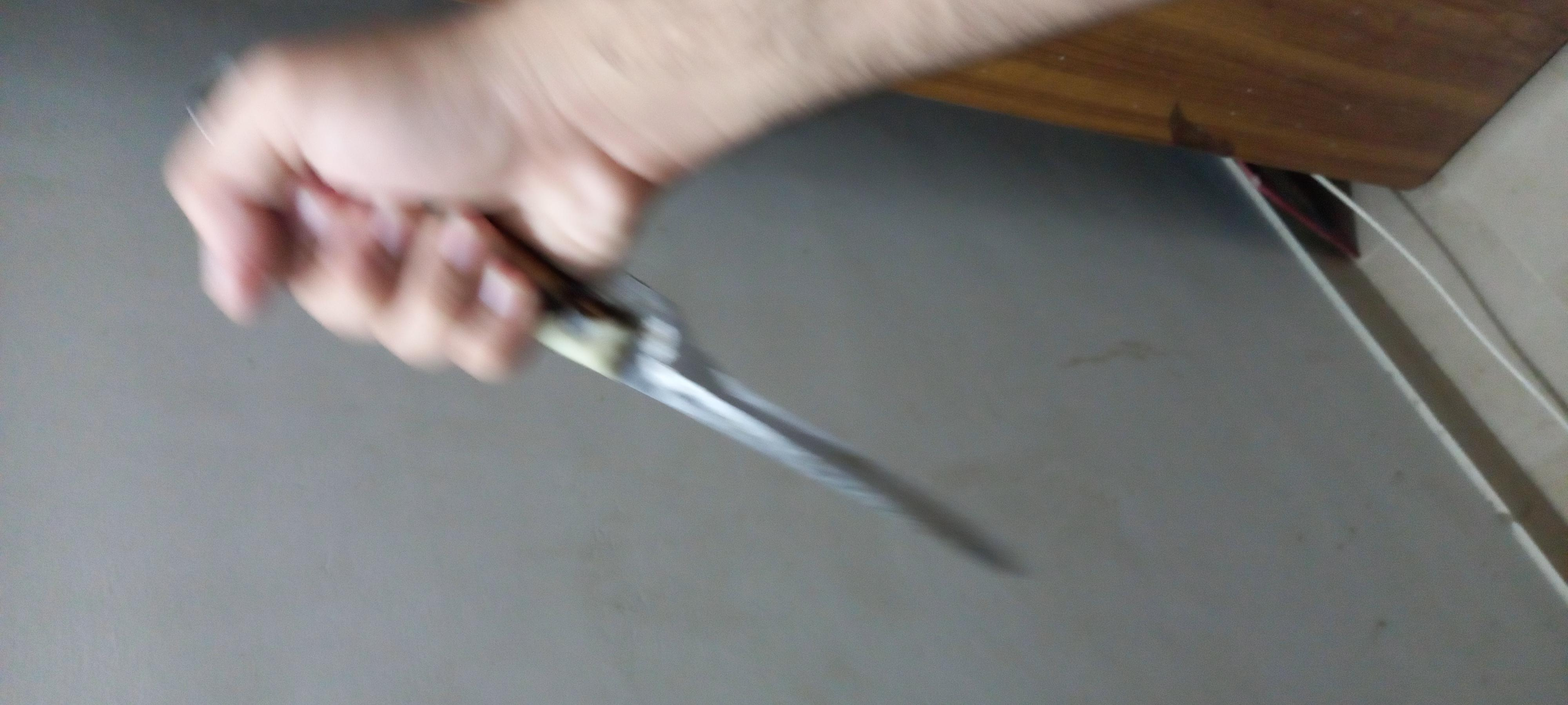knives: (308, 109, 1263, 462)
